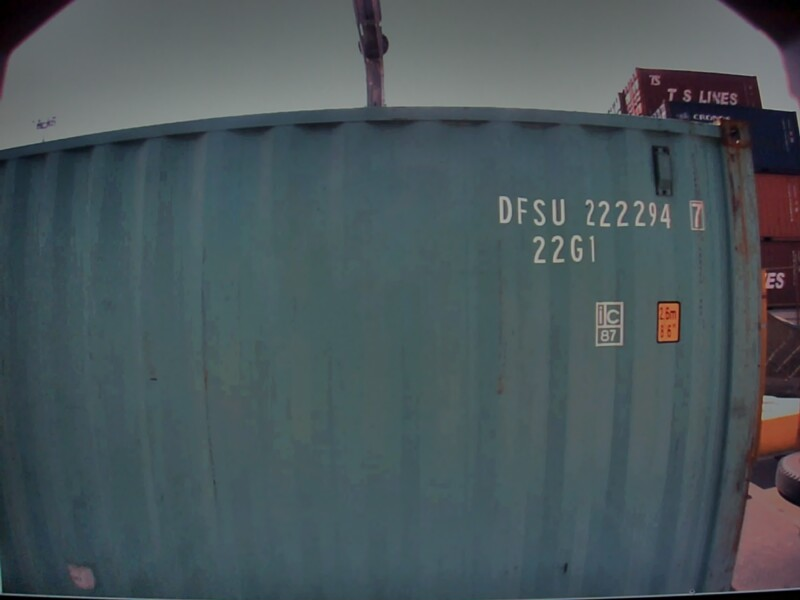container_no_door: (351, 96, 743, 541)
